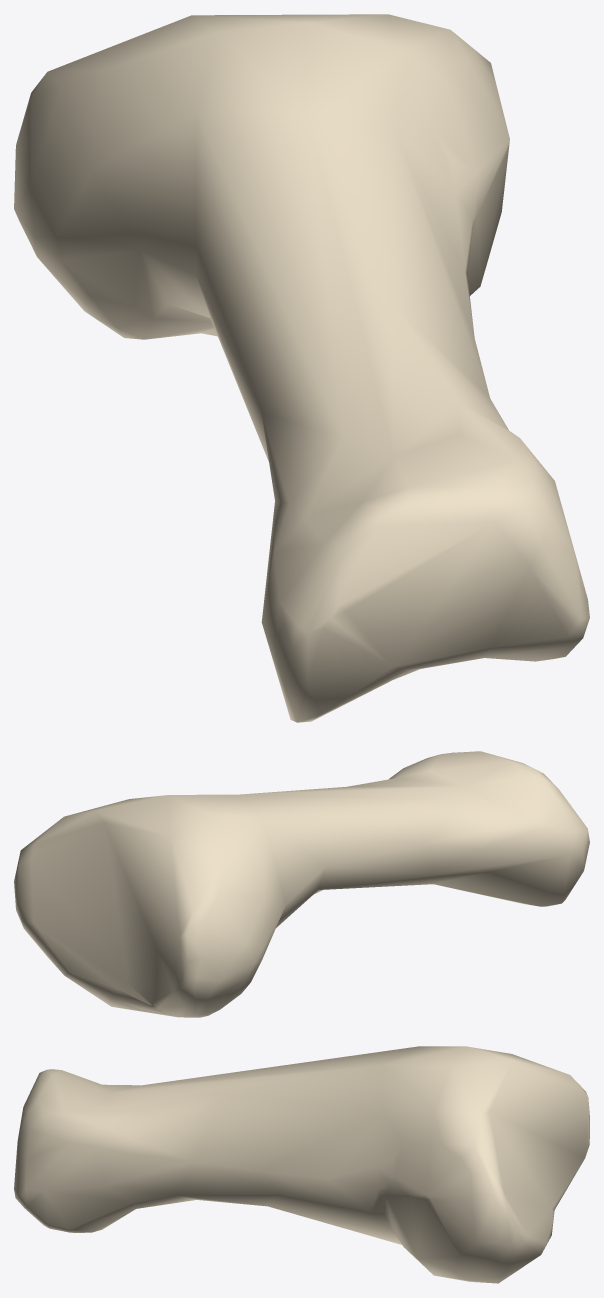
The model's file is proximal-phalanx-of-fifth-finger-of-foot-r.glb.
3 renders of one model, top to bottom at view 1: azimuth 30°, elevation 25°; view 2: azimuth 150°, elevation 25°; view 3: azimuth 270°, elevation 25°, orthographic. The views are drawn at different scales.
Visible parts, largest first — view 1: Proximal phalanx of fifth finger of foot.r; view 2: Proximal phalanx of fifth finger of foot.r; view 3: Proximal phalanx of fifth finger of foot.r.
Boxes of the visible parts, x1,y1,x2,y2 form: Proximal phalanx of fifth finger of foot.r: [14, 14, 589, 722]; Proximal phalanx of fifth finger of foot.r: [14, 751, 589, 1017]; Proximal phalanx of fifth finger of foot.r: [14, 1046, 589, 1283].
Size of the model in its own units: 0.0183 by 0.0104 by 0.0268.
